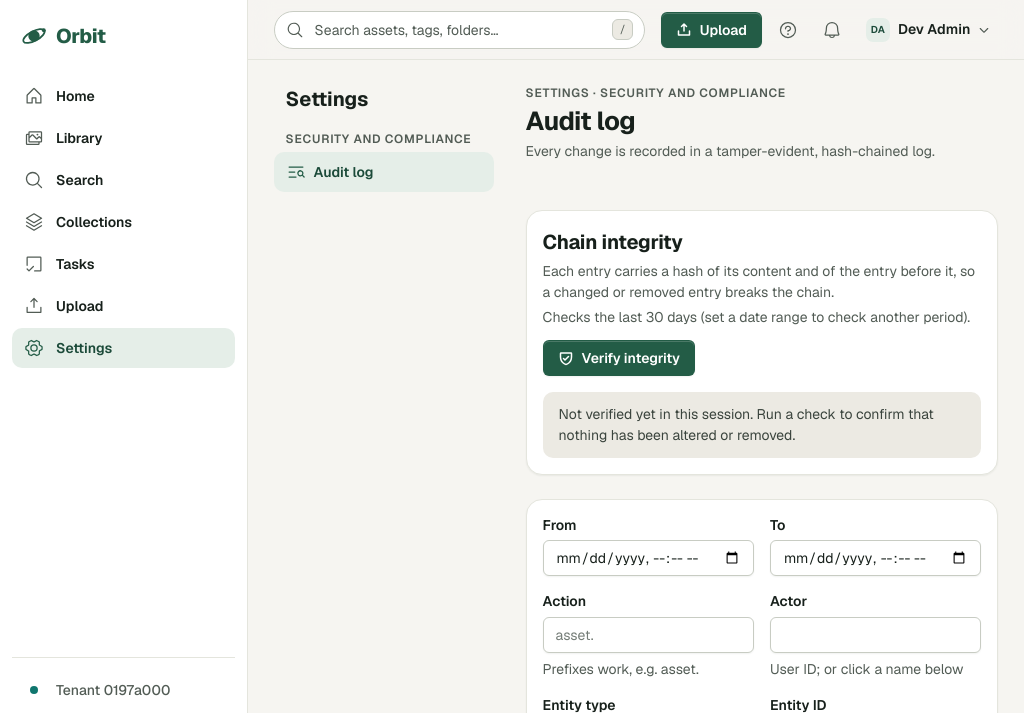
it: audit page - filters › applies typed text to the URL after a pause and refetches, then clears everything
This screenshot has width=1036, height=713.
Type "folder." into the field labelled "Action".
click(648, 635); type("folder.")  # box [543, 617, 754, 653]
(page scrolled)
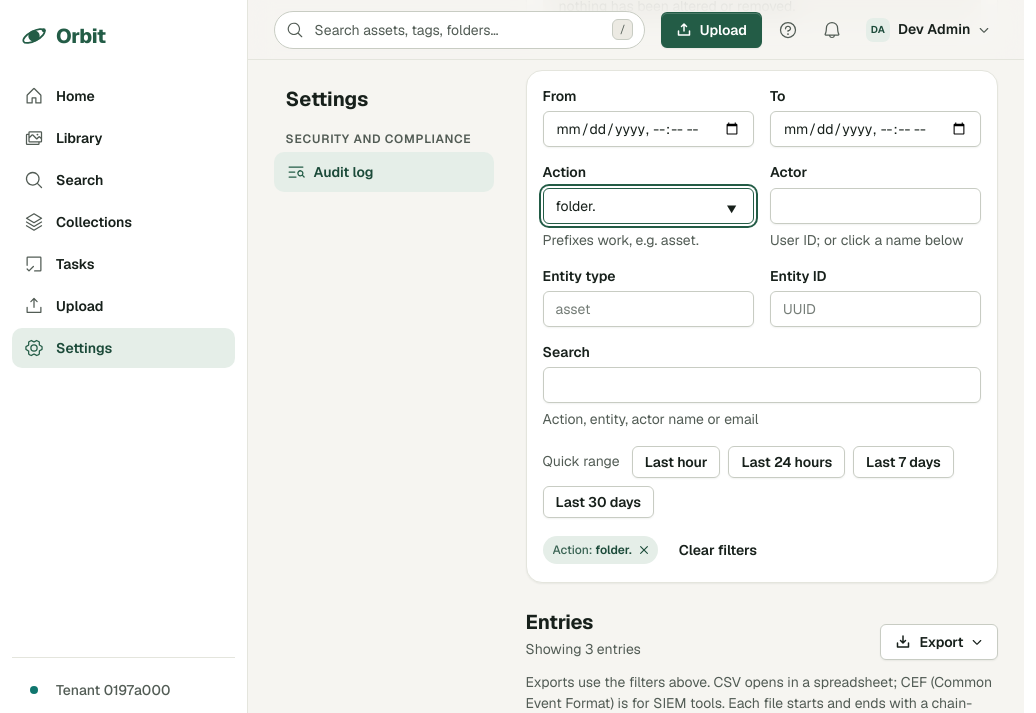
Type "x" into the search field labelled "Search".
click(762, 385); type("x")  # box [543, 367, 981, 403]
Then press Enter
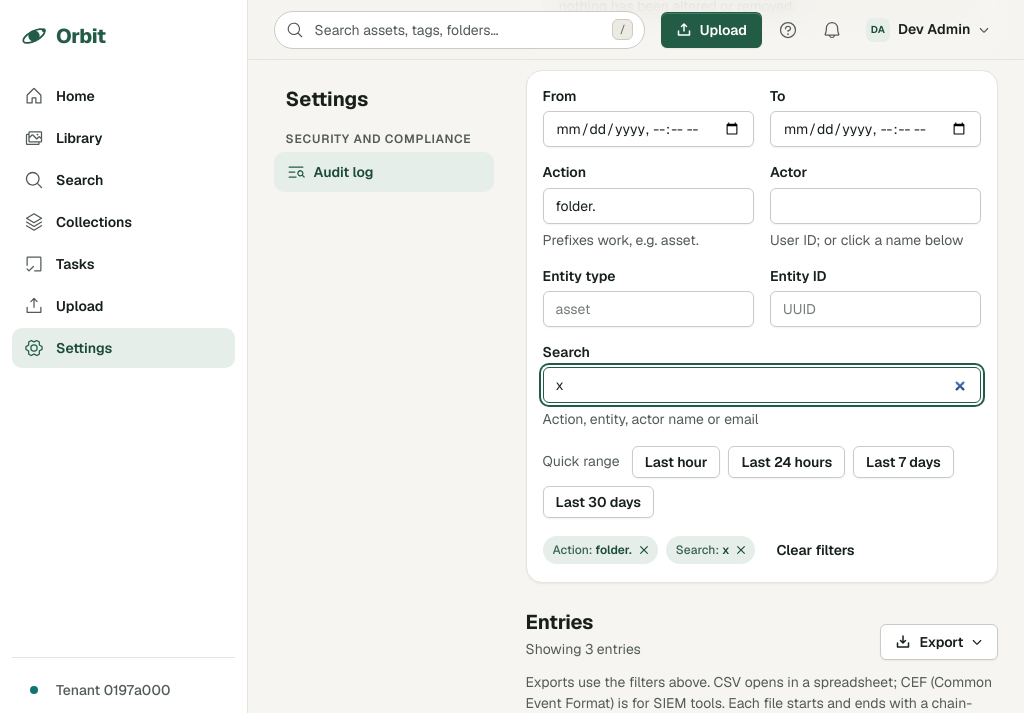
Click the button "Clear filters".
click(816, 550)  # box [764, 534, 868, 566]
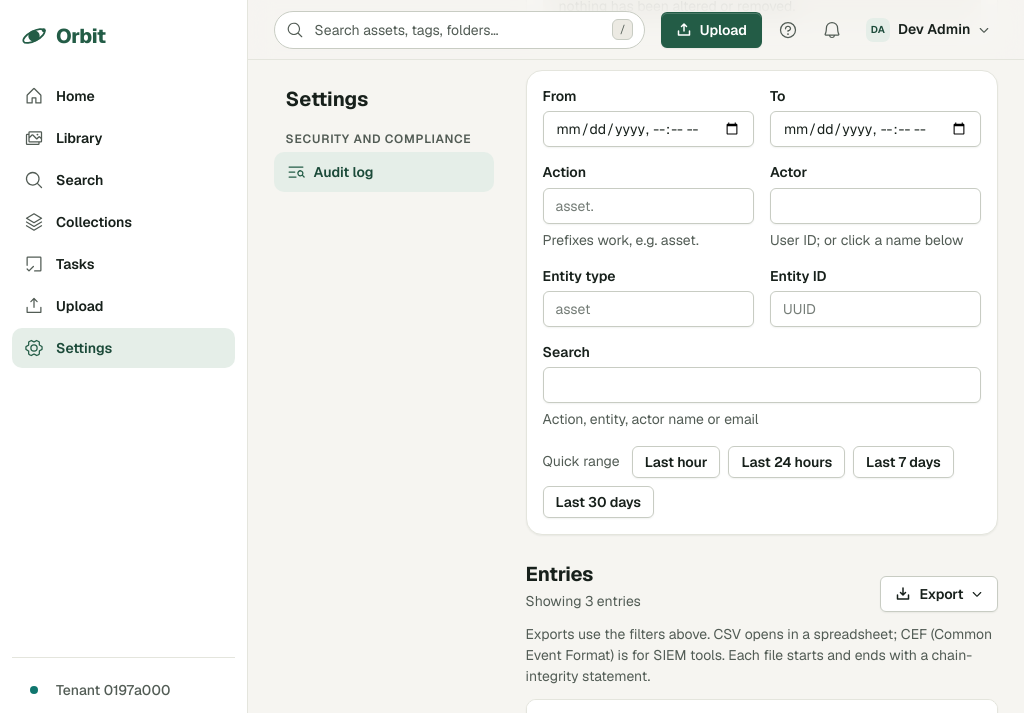
Result: the field labelled "Action" is empty at [543, 188, 754, 224]
